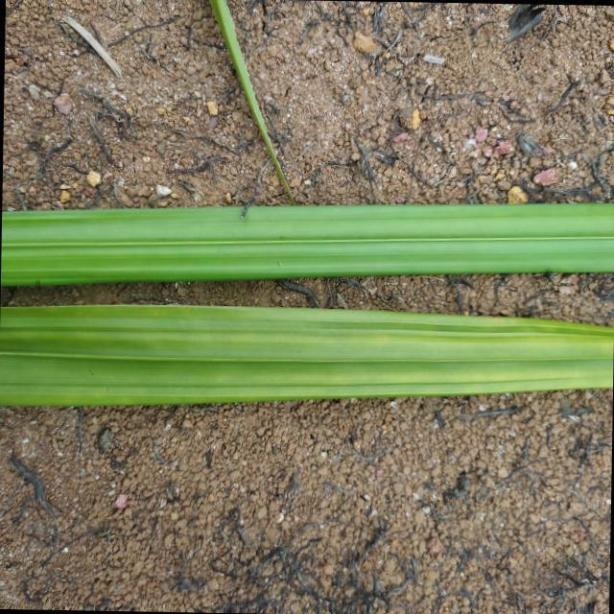nitrogen: (0, 296, 614, 404), (0, 197, 614, 284)
